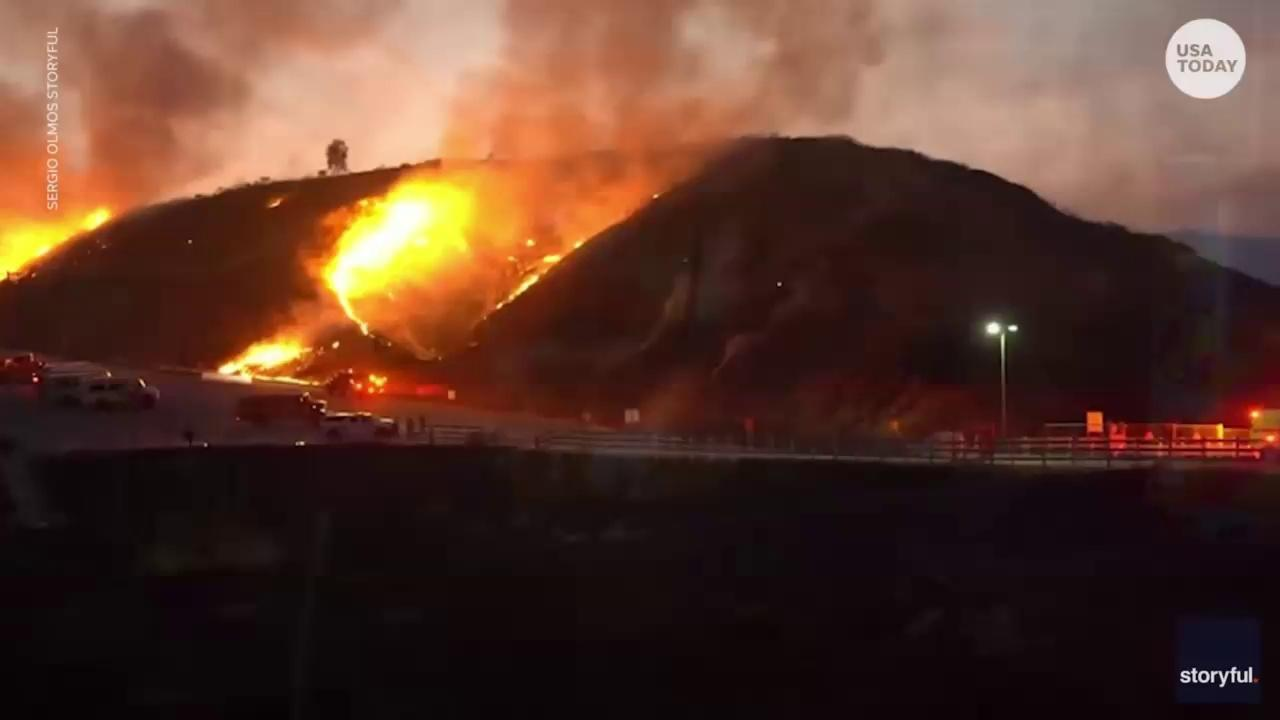fire: (323, 179, 475, 336), (0, 205, 111, 282), (217, 339, 327, 386), (506, 272, 539, 303), (268, 197, 283, 209), (542, 255, 561, 262), (574, 238, 584, 250), (331, 340, 340, 350), (526, 238, 536, 247), (497, 302, 503, 310), (652, 193, 658, 199)
smoke: (437, 0, 887, 361), (0, 0, 413, 221)
